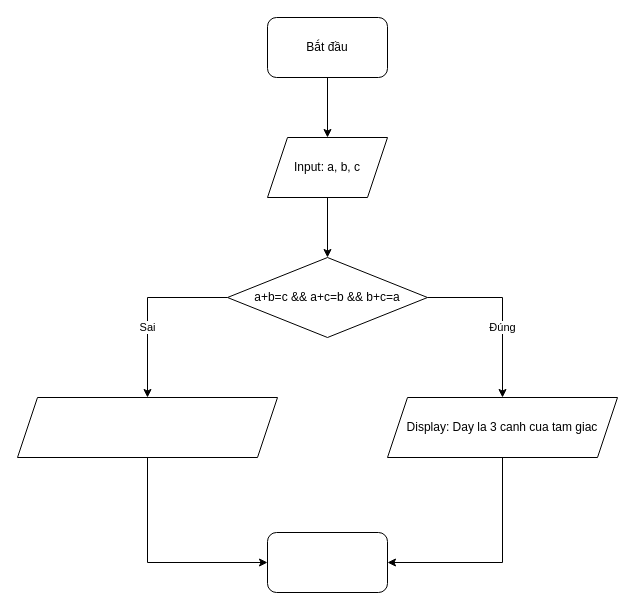
Image size: 635x610. Some labels were removed from this diagram. Here are the shapes that lost their labels. From the top down, the centre of each, then its label:
At pixel 147 427: "Display: Day khong la 3 canh cua tam giac".
At pixel 327 562: "Kết thúc".
